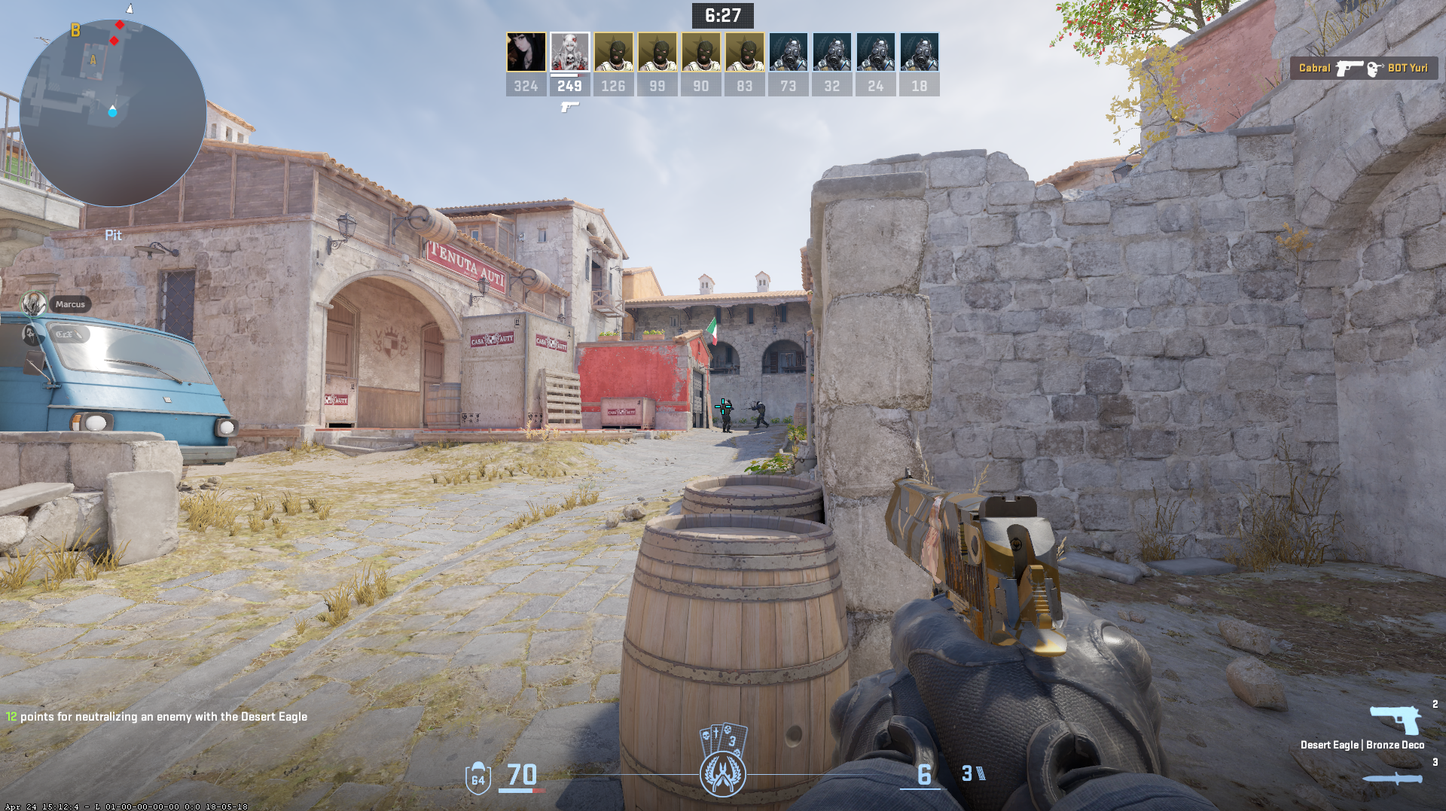CT: (722, 400, 735, 433), (754, 401, 769, 429)
